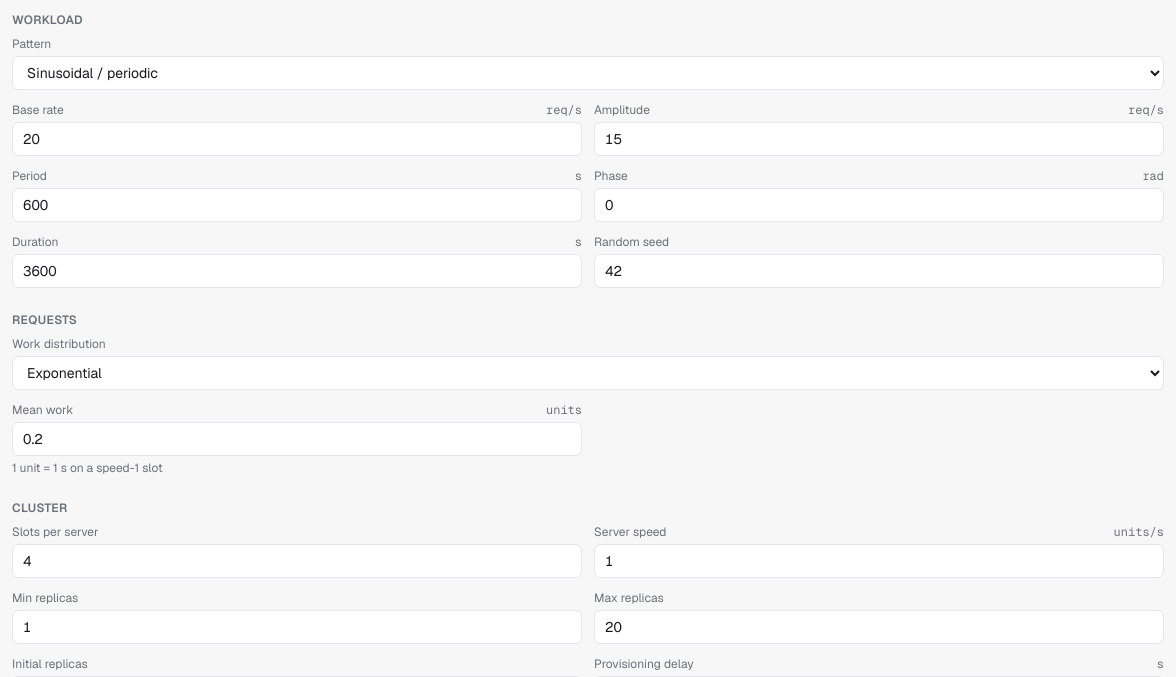
Test: ScenarioForm › shows inline validation errors
This screenshot has width=1176, height=677.
Step 1. Replace the text in the number field labelled "Min replicas" with "30" → (297, 627), box [12,610,582,644]
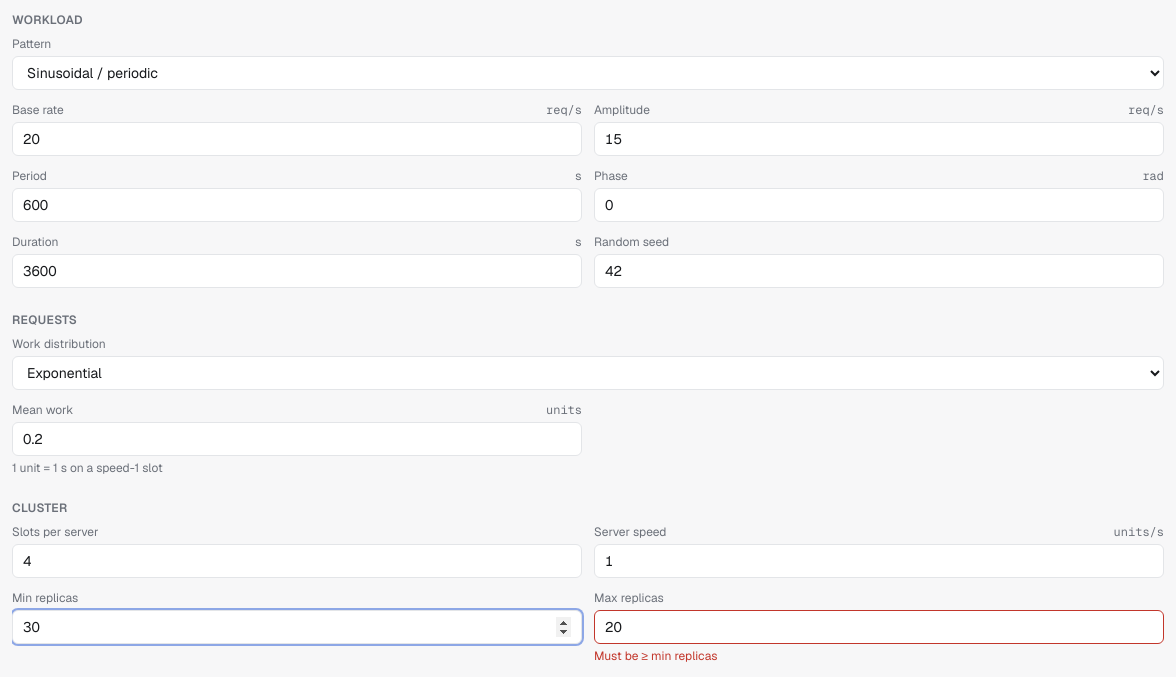
Now the text "Must be ≥ min replicas" is shown, box [594,648,718,664]
